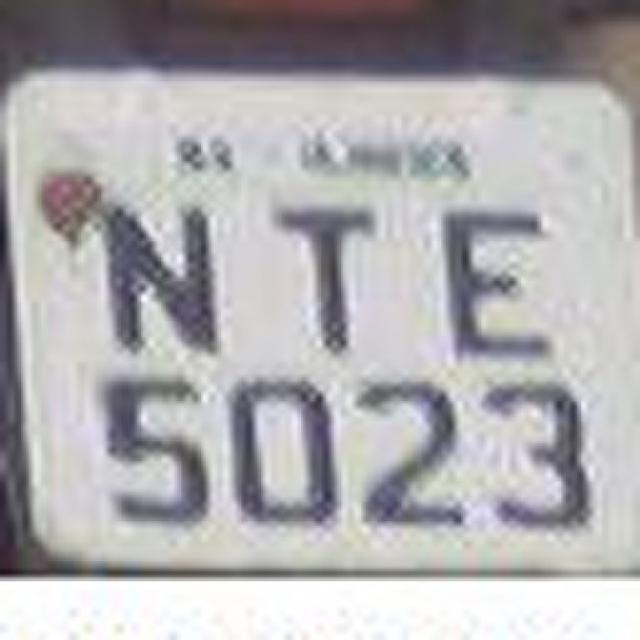0: (208, 360, 368, 535)
2: (332, 355, 496, 540)
3: (448, 352, 624, 520)
5: (89, 368, 236, 540)
E: (425, 180, 560, 355)
N: (88, 204, 220, 384)
T: (256, 191, 389, 364)
